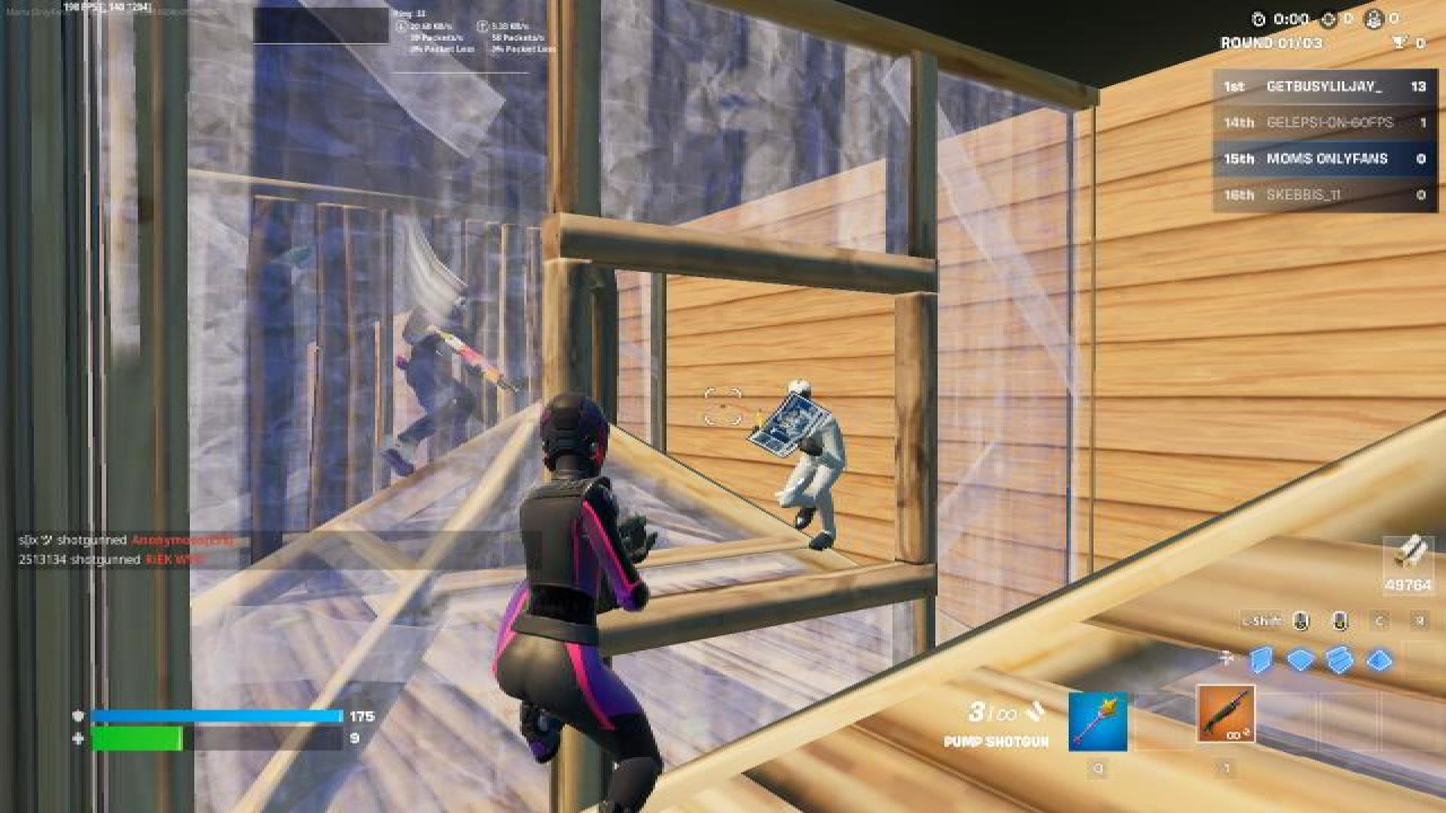player: (763, 372, 860, 560)
